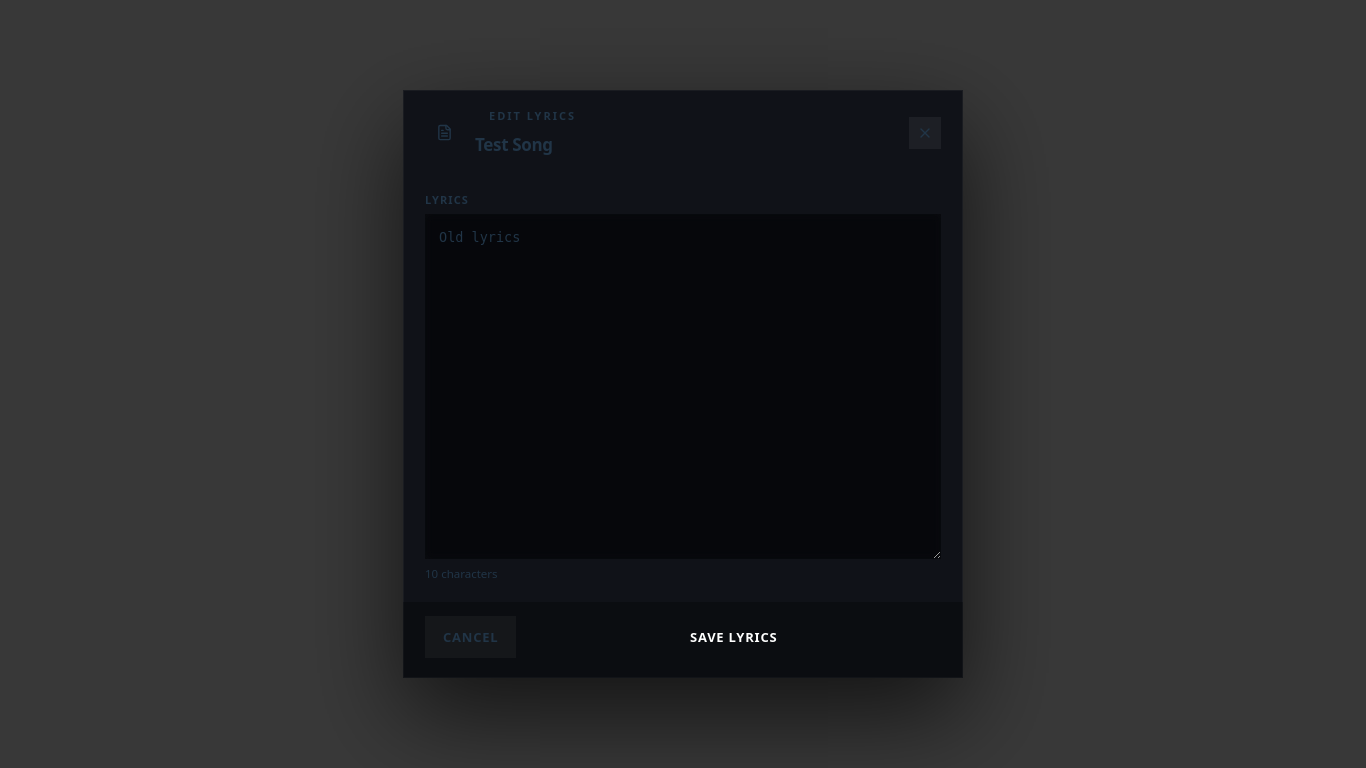
Test: LyricsWizard — save failure › shows an inline error and does not close when saving fails
Click the button "Save Lyrics".
click(734, 637)  # box [526,616,941,658]
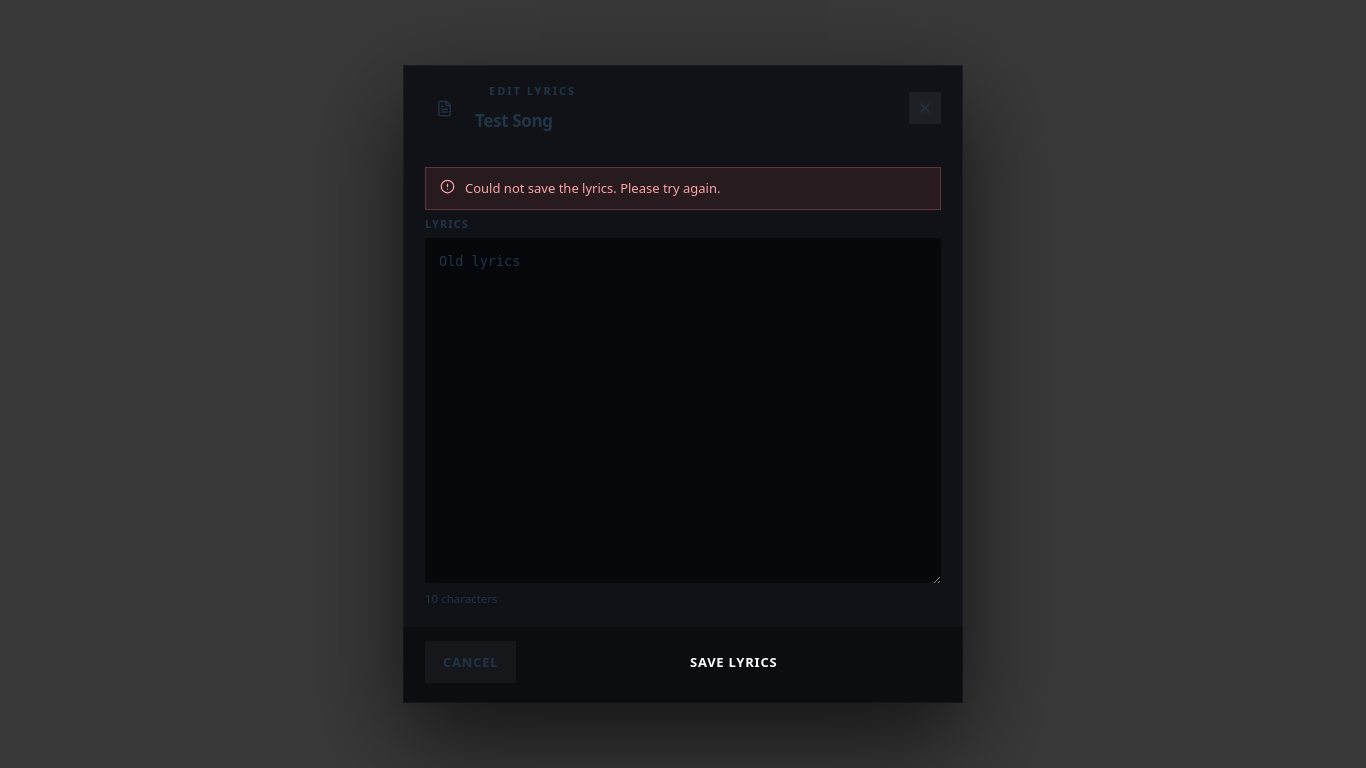
Expected: the message shows "Could not save the lyrics", [465,179,720,197]
